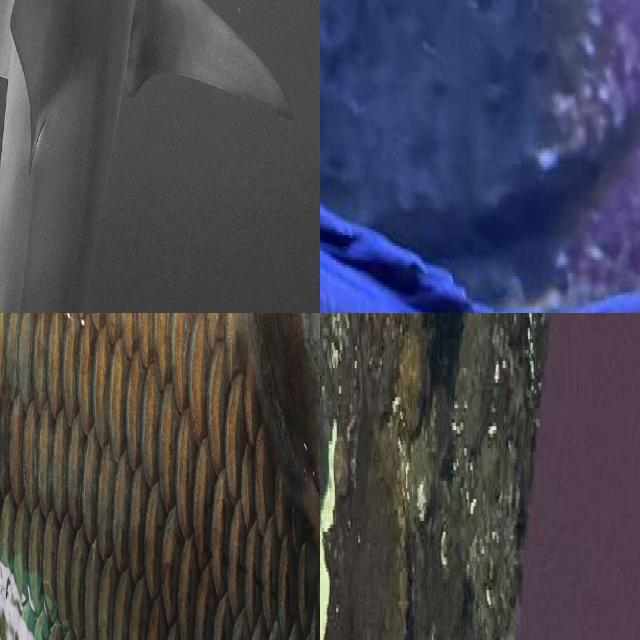fish: (0, 313, 320, 640), (0, 0, 320, 313), (320, 76, 640, 313)
